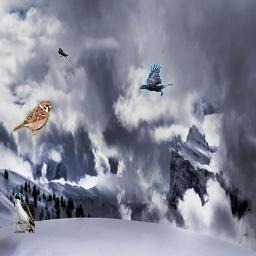Crow: (139, 64, 173, 96)
Sparrow: (13, 101, 53, 136)
Swallow: (14, 193, 35, 233), (58, 48, 68, 58)
